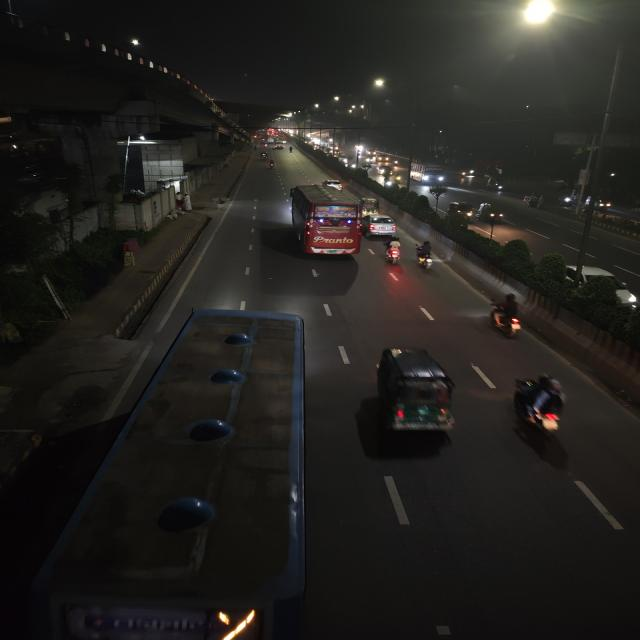bus: (141, 300, 329, 640), (290, 186, 365, 261), (414, 164, 448, 188), (394, 173, 404, 186)
car: (364, 213, 402, 239), (378, 154, 389, 162)
cng: (361, 336, 462, 442), (478, 200, 509, 225), (445, 200, 475, 223), (364, 196, 381, 216), (487, 178, 504, 190), (260, 151, 269, 160)
motorcycle: (510, 375, 580, 445), (477, 292, 545, 344), (377, 241, 408, 271), (413, 239, 436, 273), (266, 159, 277, 168), (286, 145, 294, 155)
